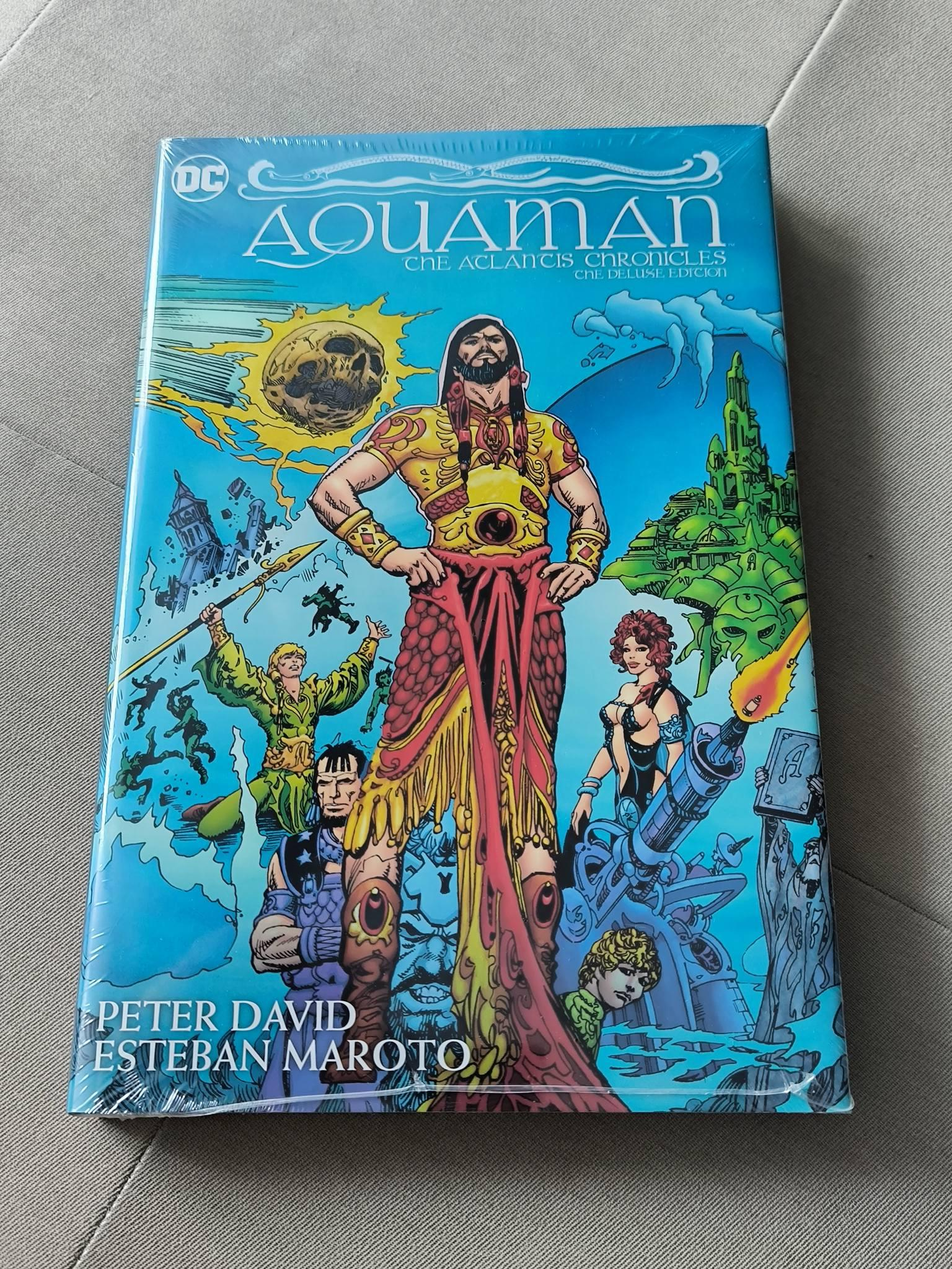comic: (56, 126, 850, 1121)
